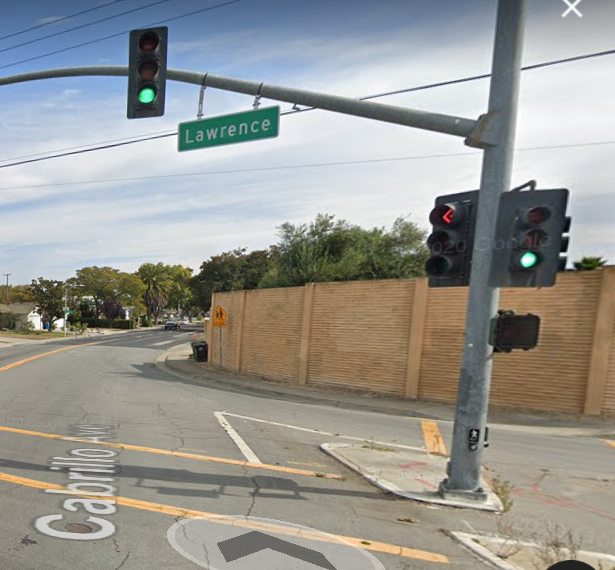green_light: (504, 196, 560, 280), (131, 29, 164, 111)
